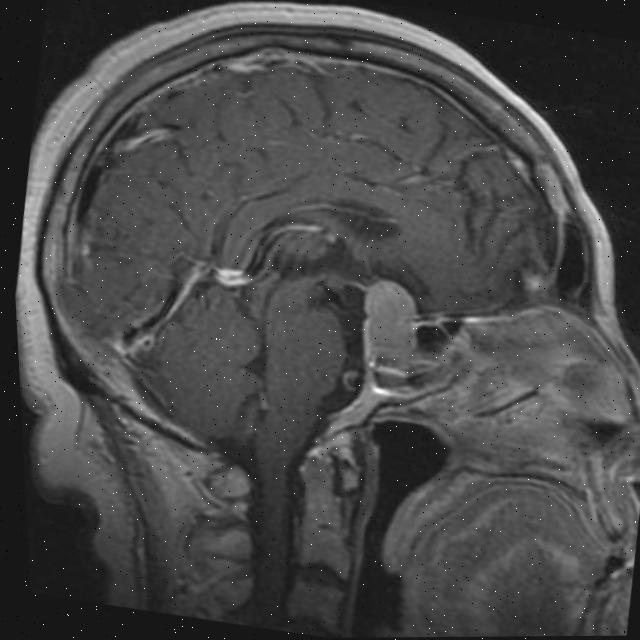Pituitary: (353, 274, 429, 364)
